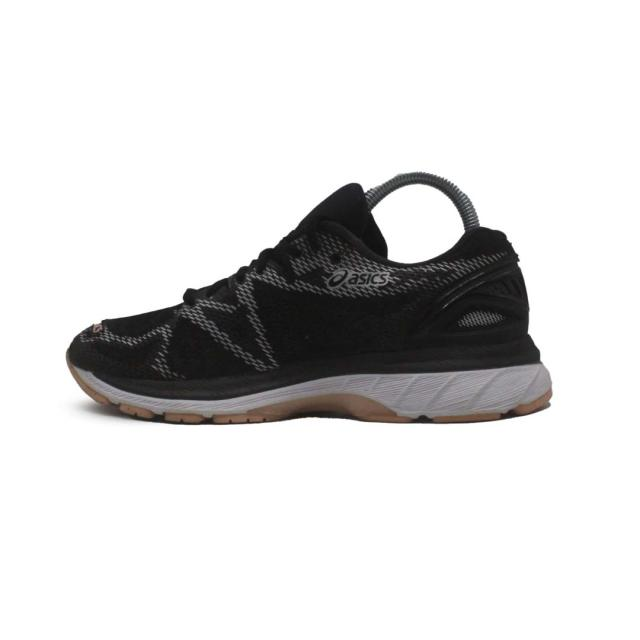heel: (457, 233, 541, 369)
midsole: (72, 358, 550, 427)
uppersole: (69, 182, 481, 388)
